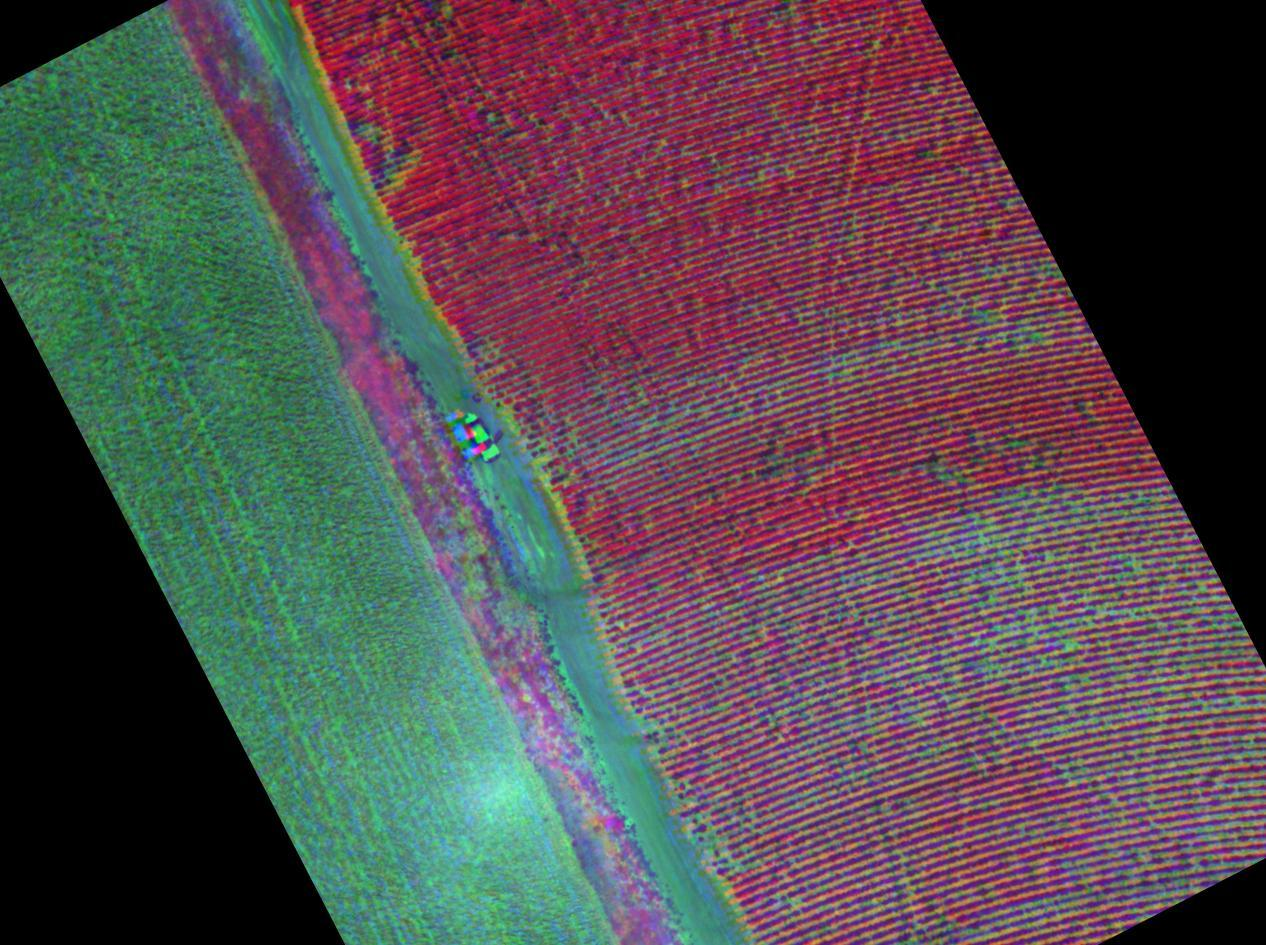dc: (963, 528, 1062, 628), (1083, 520, 1163, 606), (631, 705, 716, 784), (1168, 635, 1247, 704), (693, 795, 762, 867)
